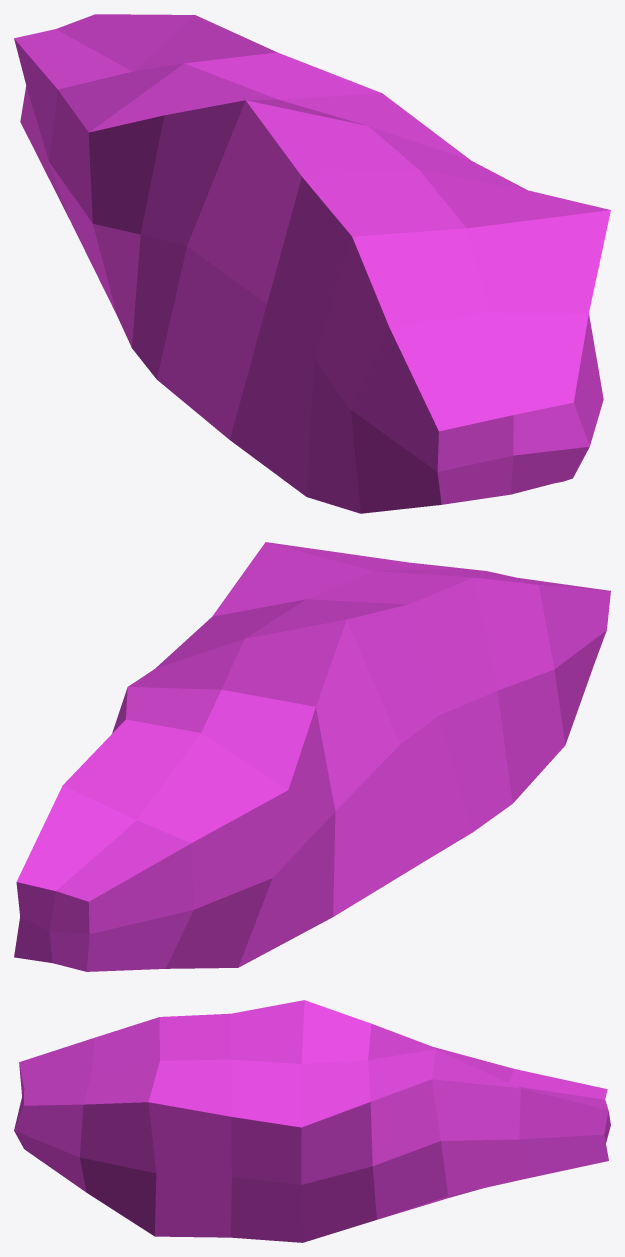
File: broken comet part.fbx
3 renders of one model, top to bottom at view 1: azimuth 30°, elevation 25°; view 2: azimuth 150°, elevation 25°; view 3: azimuth 270°, elevation 25°, orthographic. The views are drawn at different scales.
Parts seen in each view (by area): view 1: Cube.006; view 2: Cube.006; view 3: Cube.006.
Part boxes in pixels (bbox=[...]): Cube.006: bbox=[14, 14, 610, 513]; Cube.006: bbox=[14, 542, 610, 971]; Cube.006: bbox=[14, 1000, 610, 1242].
Size of the model in its own units: 333 by 351 by 941.
